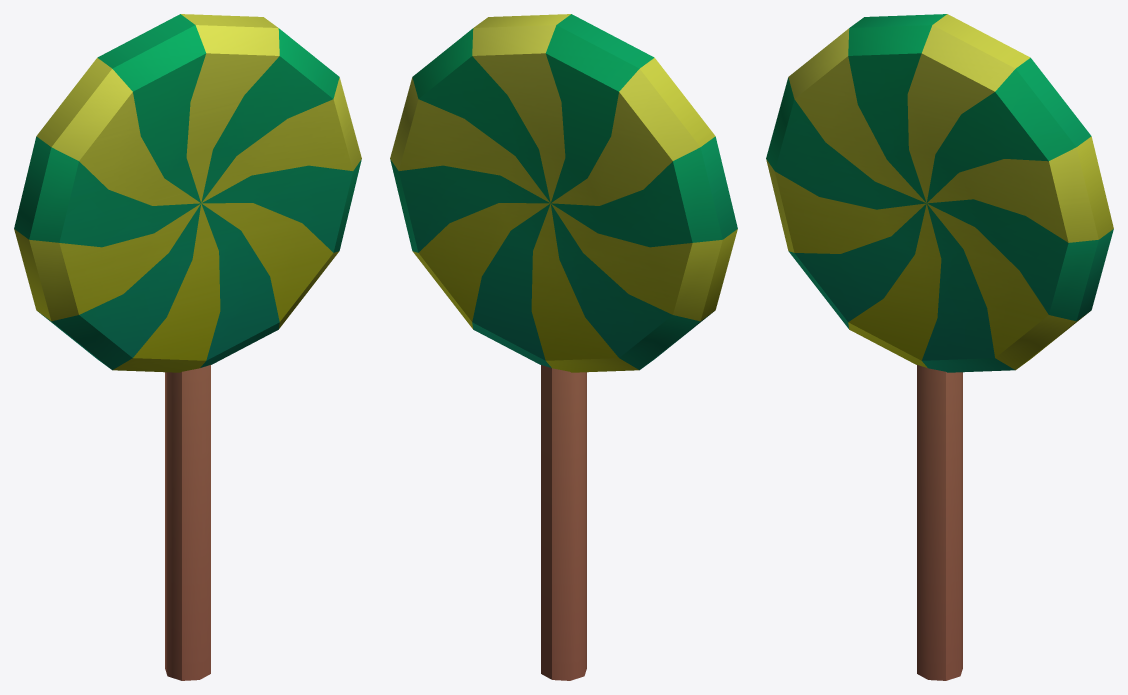
The model's file is lollipop_green.gltf.
3 views of the same model, side by side, from view 1: azimuth 30°, elevation 25°; view 2: azimuth 150°, elevation 25°; view 3: azimuth 330°, elevation 25° (orthographic).
Parts seen in each view (by area): view 1: lollipop_green; view 2: lollipop_green; view 3: lollipop_green.
Part boxes in pixels (x1,y1,x2,y2): lollipop_green: (14,14,361,680); lollipop_green: (390,14,737,680); lollipop_green: (766,14,1113,680).
Bounding box in the file's own units: 0.65 × 1.23 × 0.1239.
1 material, 1 textured.
